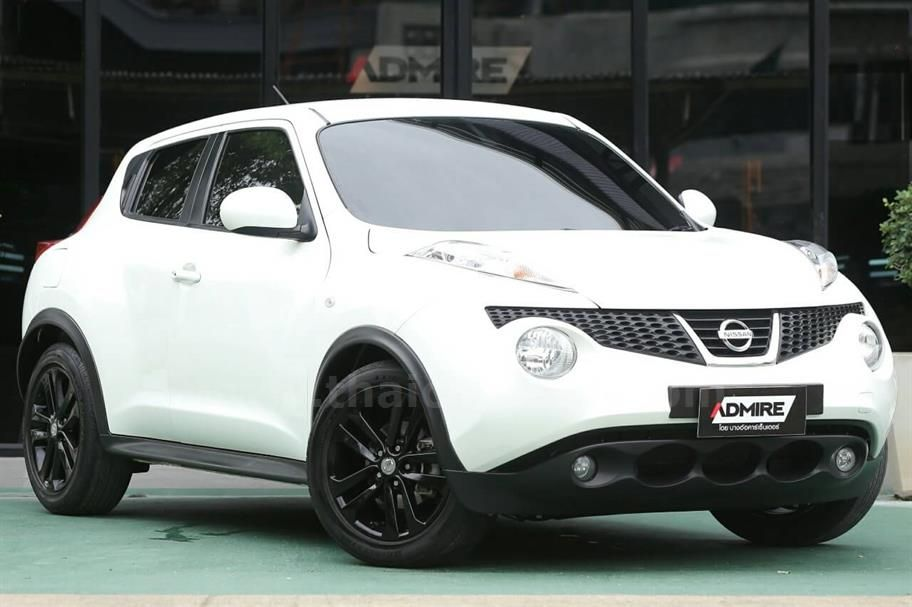sedan: (18, 95, 898, 573)
